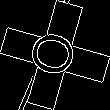O_E: (25, 27, 85, 83)
